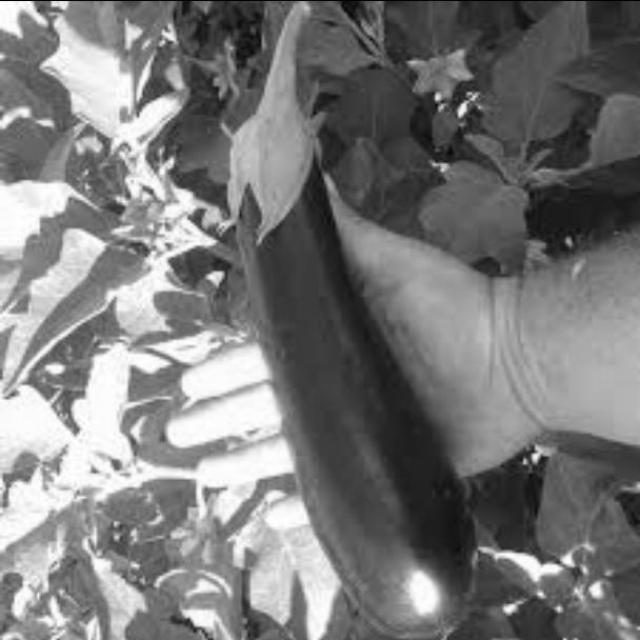eggplant: (190, 0, 501, 640)
